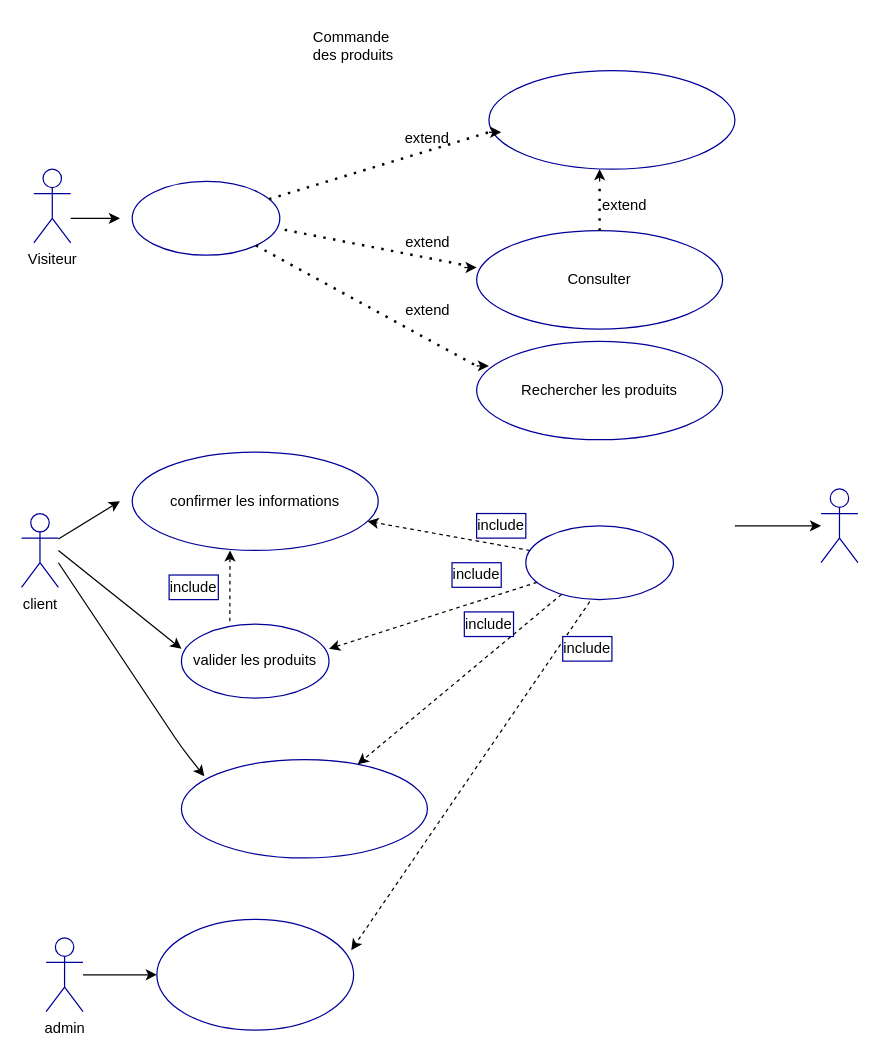
Image size: 886x1058. Some labels were removed from this diagram. The centre of each missing label's shape, as x and y in pixels:
"Afficher et consulter des produits" belongs at (x=205, y=217).
"Ajouter au panier" belongs at (x=611, y=119).
"banque" belongs at (x=839, y=525).
"gestion et mise à jour du stock" belongs at (x=255, y=974).
"payer" belongs at (x=303, y=808).
"S'authentifier" belongs at (x=599, y=562).
